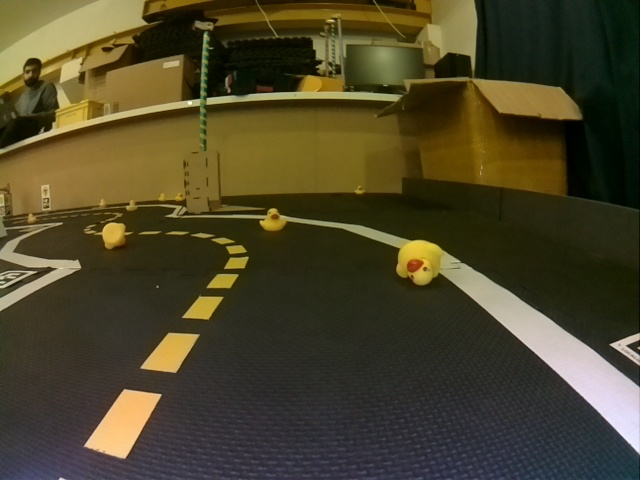Duckie: (396, 240, 440, 284), (104, 223, 126, 249), (259, 208, 284, 230), (355, 187, 364, 195), (126, 201, 135, 209), (159, 194, 167, 203), (176, 193, 184, 202), (27, 213, 36, 221), (99, 198, 106, 207)
